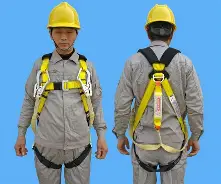safety belt: (126, 50, 195, 171), (28, 59, 102, 170)
